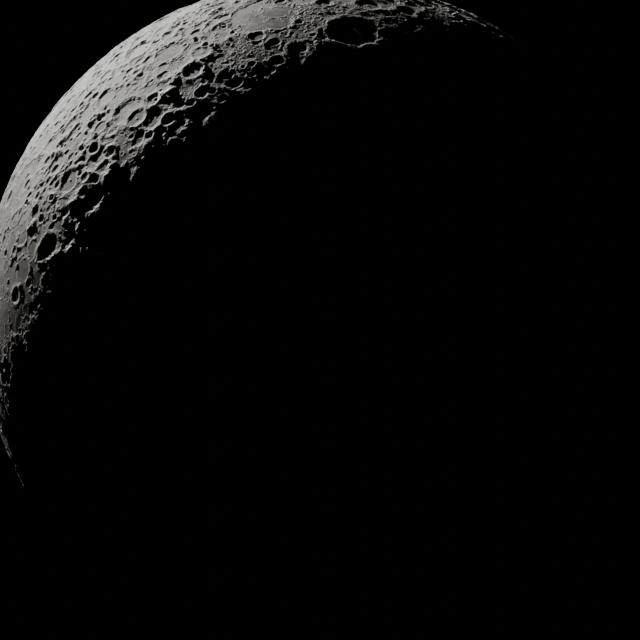crater: (319, 7, 391, 52), (168, 58, 220, 112), (25, 224, 62, 269), (170, 54, 217, 86), (284, 31, 312, 65), (0, 281, 29, 312), (118, 104, 148, 132), (156, 83, 187, 110), (244, 23, 271, 50), (262, 32, 284, 55), (83, 136, 98, 163), (160, 109, 180, 128), (102, 144, 119, 160), (266, 54, 284, 69), (84, 172, 100, 186), (97, 87, 111, 101)
